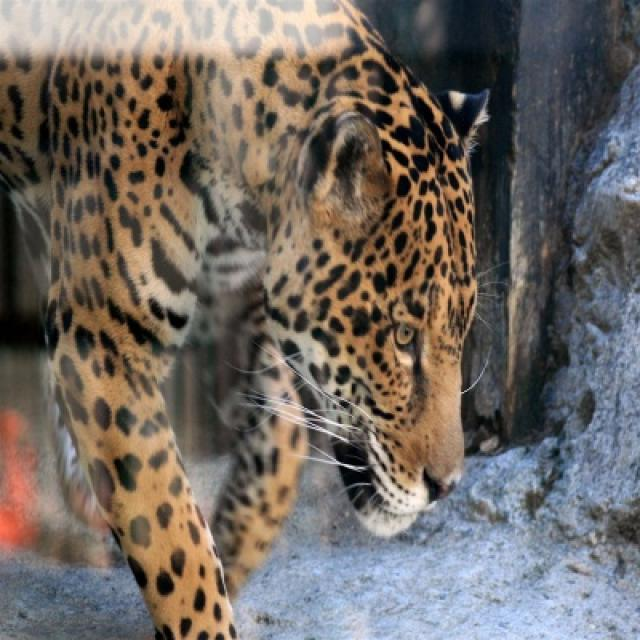Jaguar: (0, 0, 490, 638)
